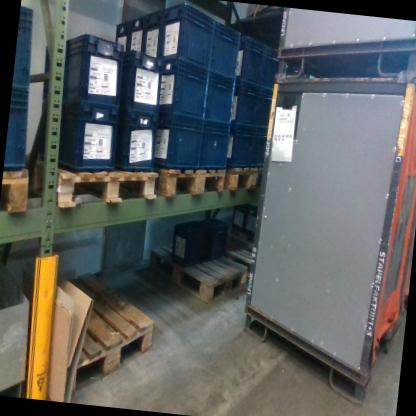pallet: (13, 213, 261, 406), (18, 142, 163, 223), (144, 225, 254, 306), (155, 164, 227, 208), (0, 161, 35, 223), (224, 161, 268, 203)
small_load_carrier: (37, 20, 130, 107), (32, 90, 121, 170), (111, 45, 169, 127), (156, 51, 213, 130), (157, 0, 215, 71), (152, 112, 205, 171), (3, 90, 40, 173), (11, 0, 43, 94), (116, 110, 161, 175), (206, 14, 244, 82), (232, 35, 271, 99), (203, 70, 238, 131), (227, 84, 264, 133), (224, 123, 257, 174), (197, 122, 229, 173), (141, 6, 162, 69), (127, 4, 148, 65), (262, 44, 283, 97), (108, 17, 133, 55), (258, 91, 276, 141), (253, 129, 272, 169)
